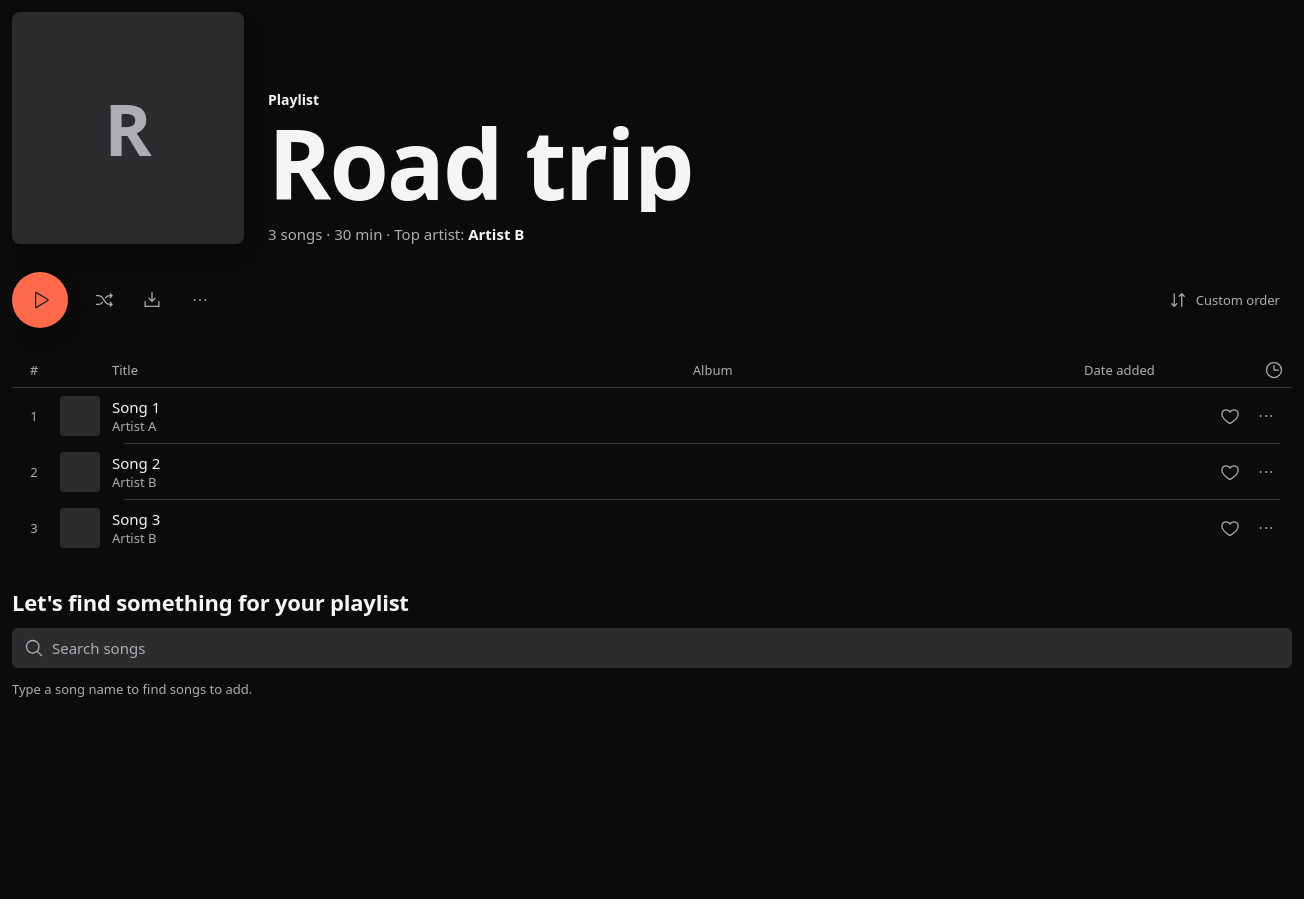
Test: Playlist page with songs › disables Move up on the first song
Step 1. Click the button named "More options for Song 1" → coordinates (1266, 416), box x1=1248 y1=398 x2=1284 y2=434
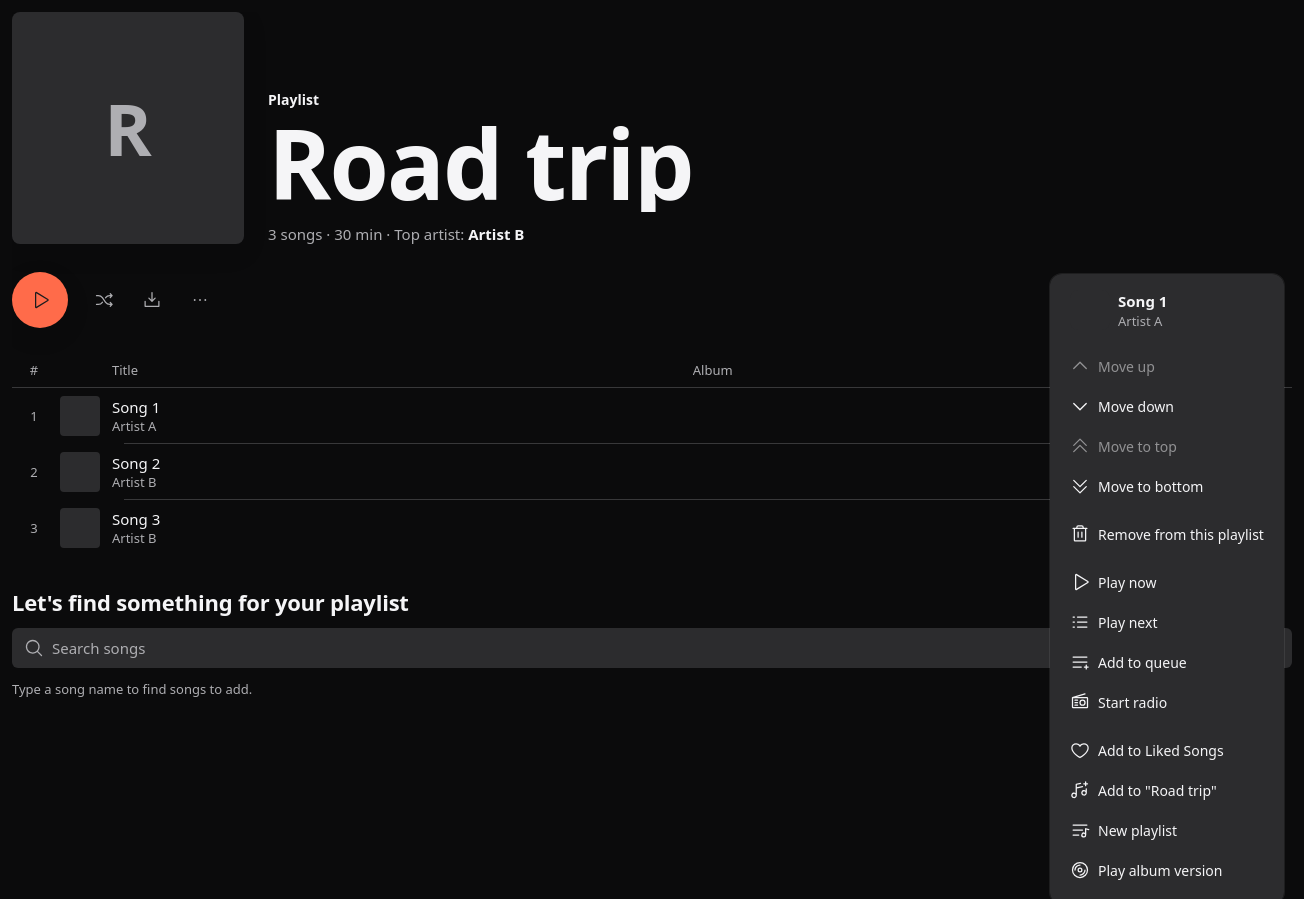
Expected: the menu item "Move up" is disabled, x1=1058 y1=346 x2=1276 y2=386
